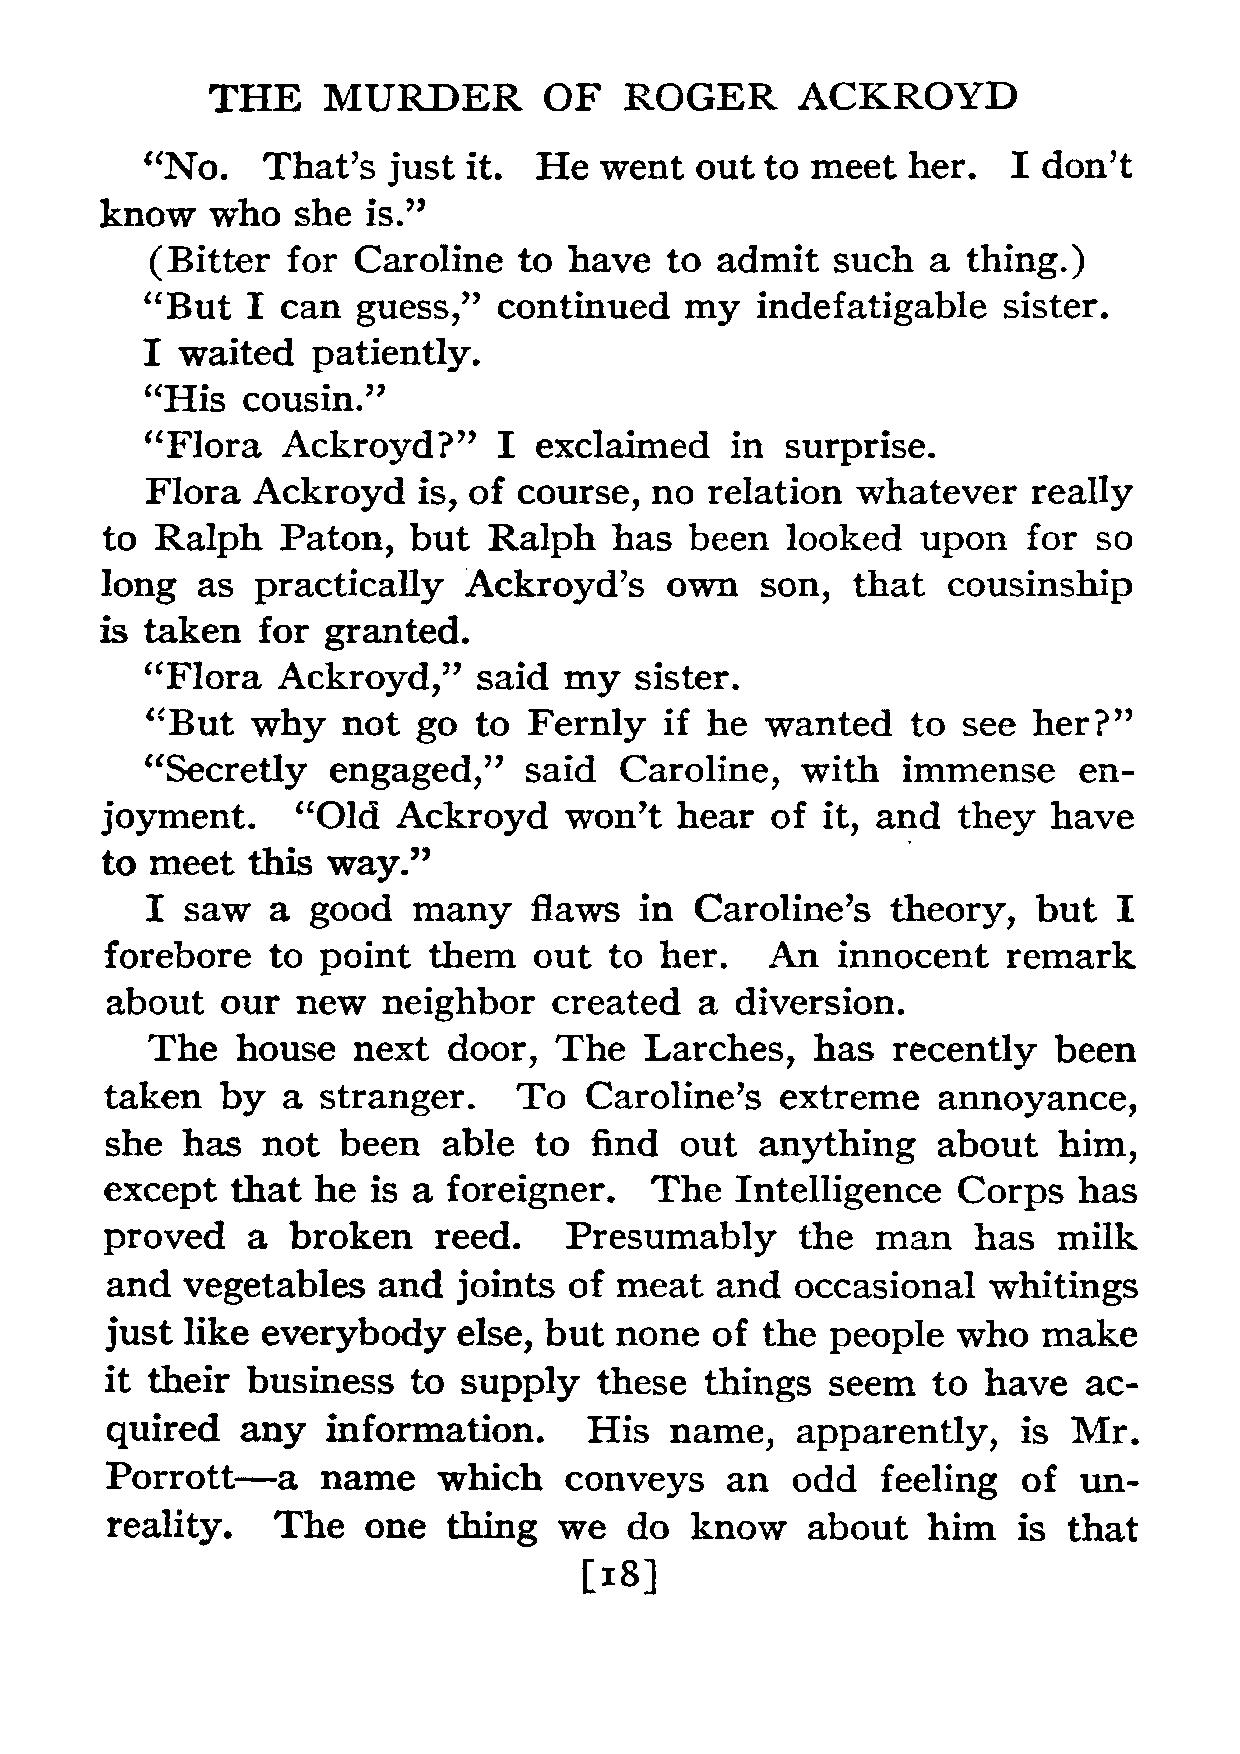chapter: (207, 74, 1017, 111)
content: (95, 145, 1143, 1550)
content_pagenumber: (595, 1558, 644, 1589)
